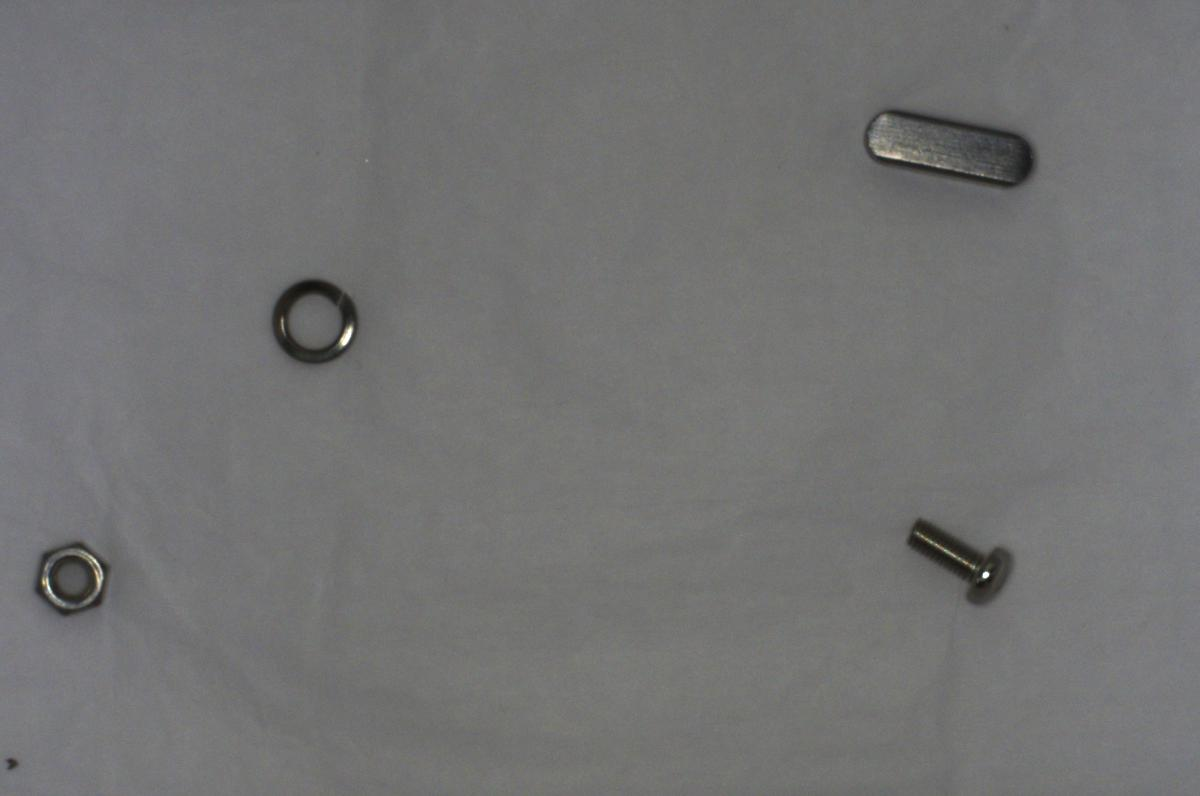Hexagon nut: (24, 532, 117, 622)
Keybar: (854, 96, 1050, 192)
Round head screw: (900, 503, 1024, 619)
Spring washer: (262, 265, 365, 367)
